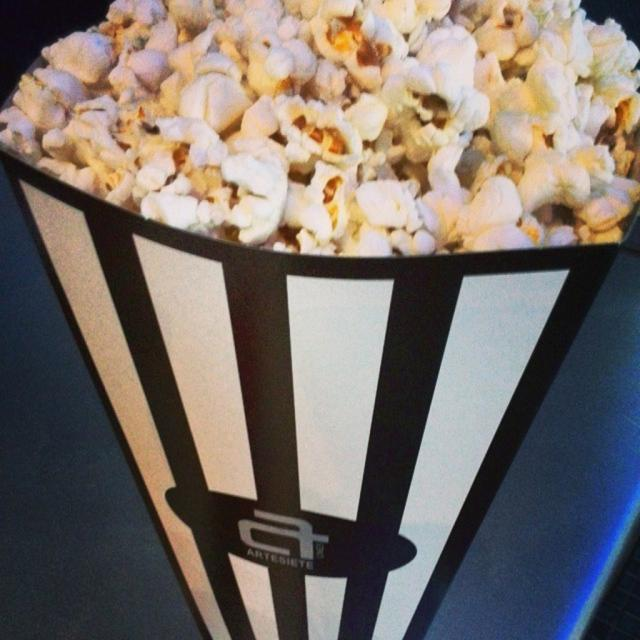Popcorn: (0, 0, 639, 254)
